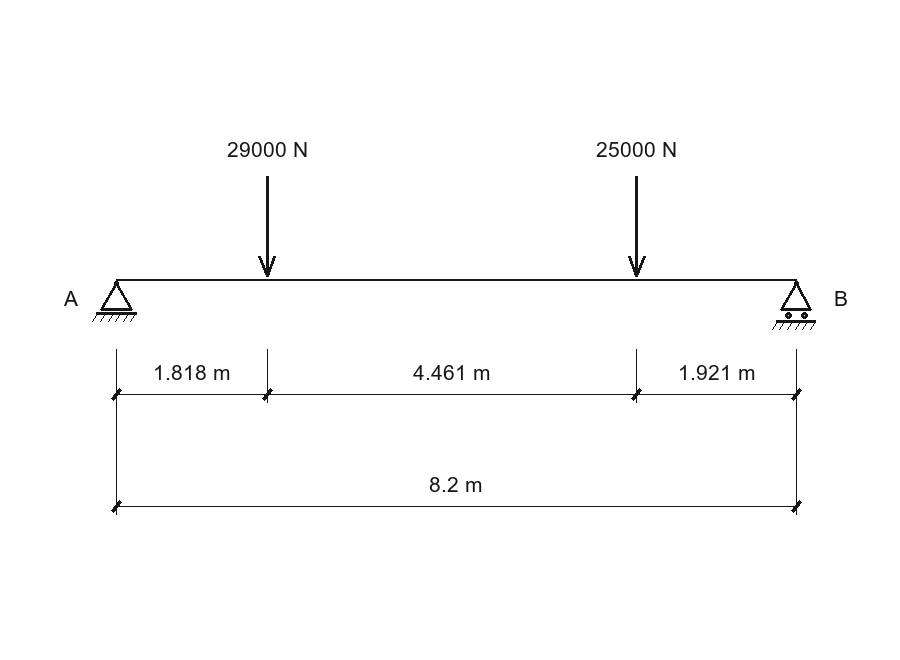pin_support: (92, 281, 137, 322)
point_load: (258, 176, 276, 277), (628, 176, 646, 277)
roller_support: (772, 281, 816, 330)
